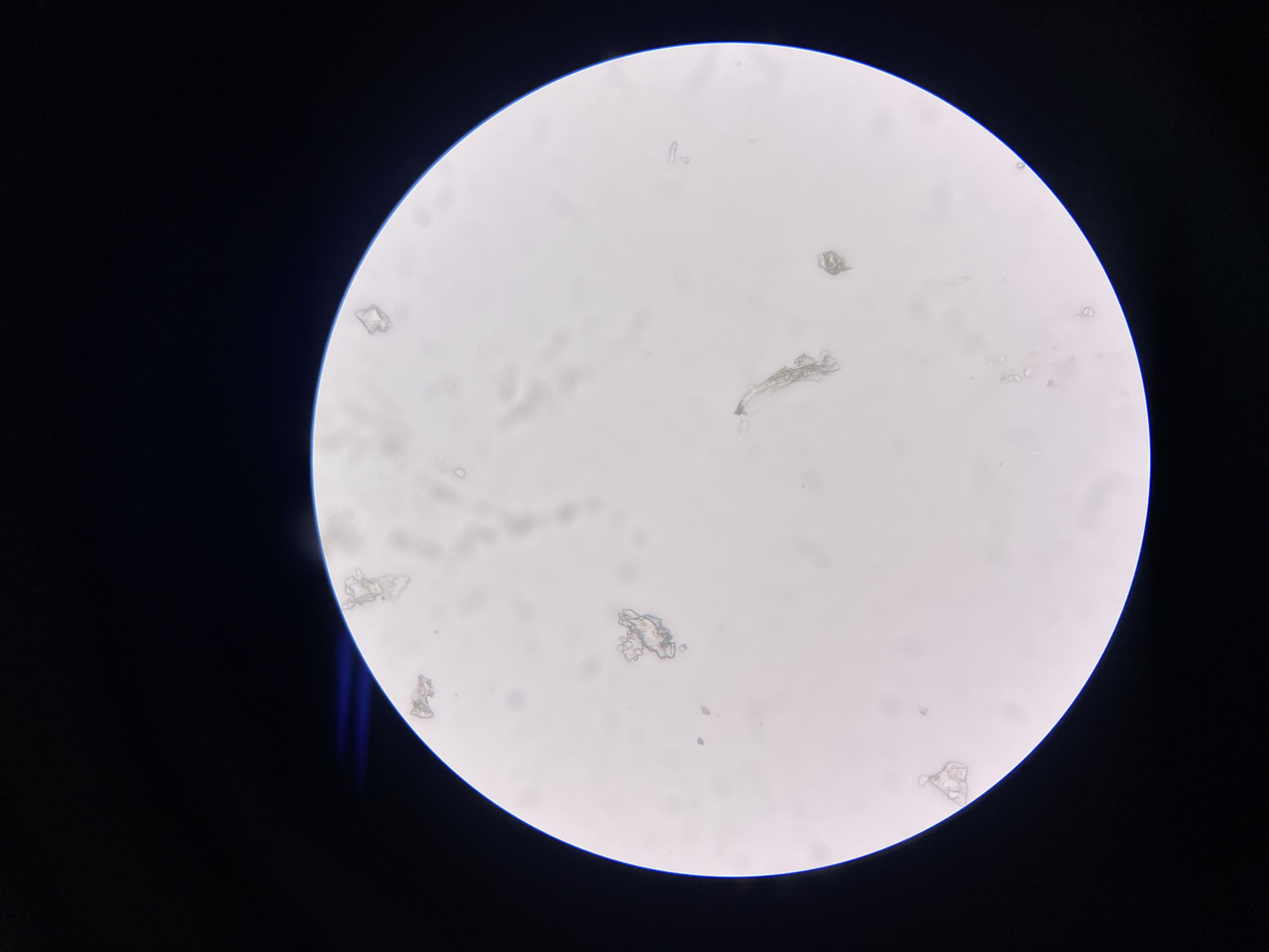not_microplastic: (735, 349, 843, 416), (616, 605, 688, 672), (340, 564, 413, 613), (915, 762, 973, 808), (409, 674, 436, 724), (353, 307, 394, 337), (813, 251, 854, 277), (665, 141, 687, 165), (451, 466, 470, 483), (1083, 307, 1101, 319)
